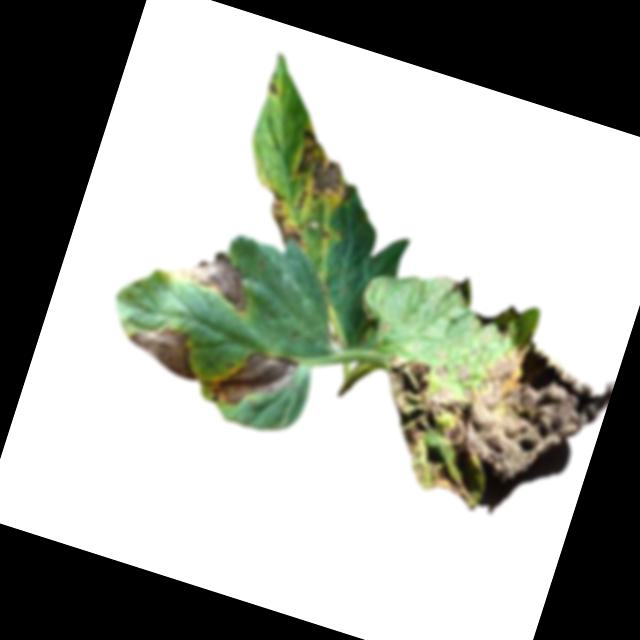Early_blight: (352, 295, 621, 540), (283, 123, 371, 217), (206, 336, 299, 420), (168, 237, 262, 315), (122, 314, 211, 382), (259, 192, 318, 248), (265, 78, 283, 97)
